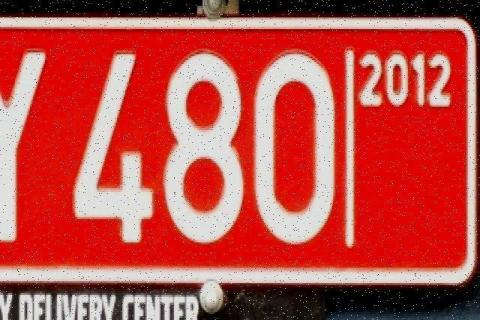LicensePlate: (0, 17, 480, 287)
